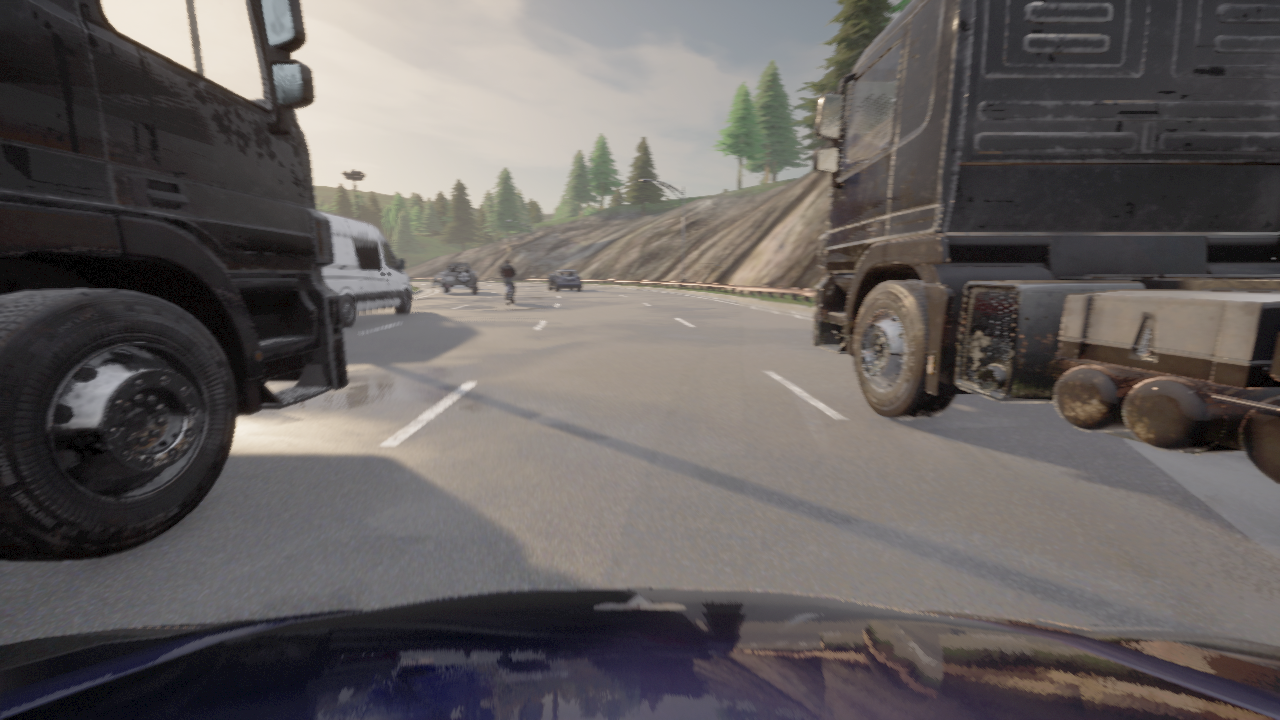cyclist: (813, 0, 1279, 484), (0, 588, 1279, 719), (317, 211, 412, 326), (443, 263, 477, 293), (548, 270, 581, 290), (431, 272, 444, 287), (506, 284, 513, 301)
